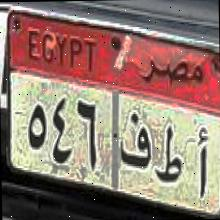4: (50, 95, 73, 169)
5: (25, 100, 48, 156)
6: (76, 97, 98, 170)
Taa: (153, 124, 183, 188)
alif: (192, 124, 212, 203)
faa: (116, 108, 152, 173)
